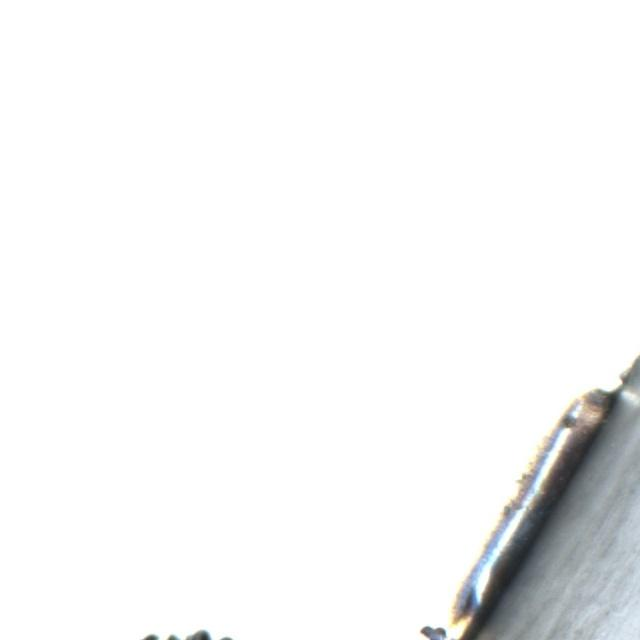tool_b: (391, 596, 483, 640)
